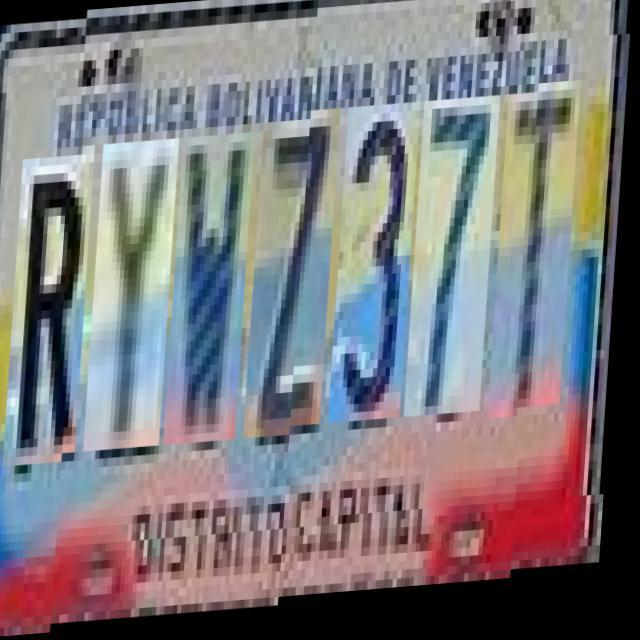3: (334, 110, 422, 430)
7: (410, 104, 502, 424)
R: (10, 138, 98, 450)
T: (493, 99, 582, 428)
W: (170, 128, 258, 440)
Y: (90, 133, 182, 445)
Z: (250, 114, 342, 434)
